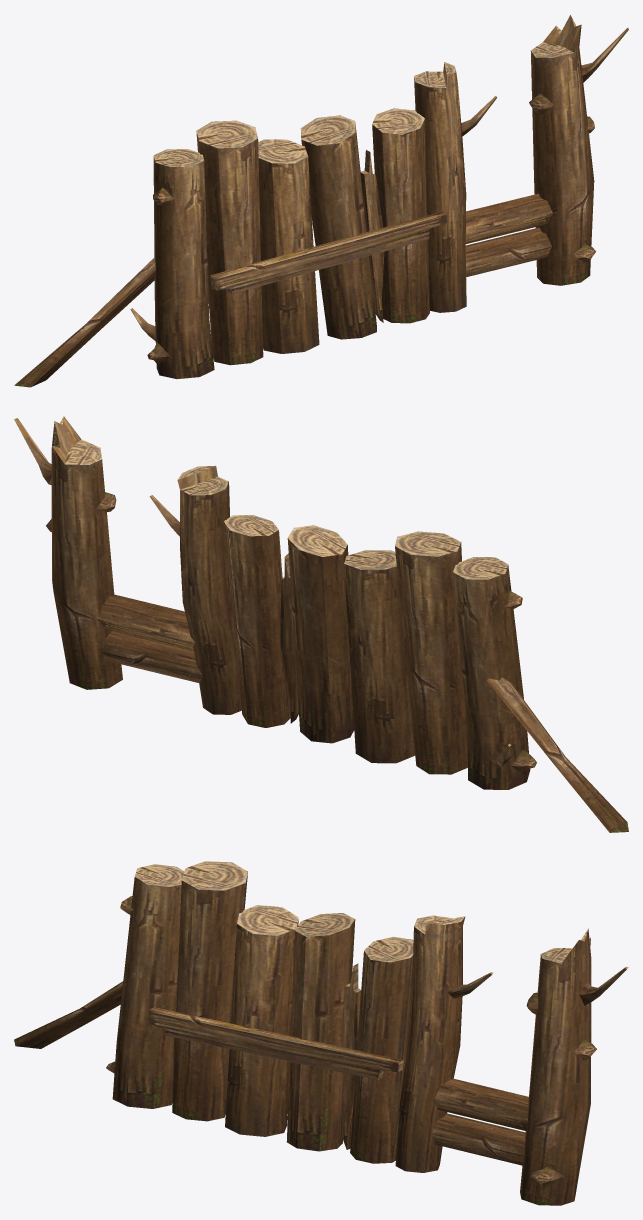
Rendered from jd_zhalan_2.FBX.
3 views of the same model, one above another, from view 1: azimuth 30°, elevation 25°; view 2: azimuth 150°, elevation 25°; view 3: azimuth 330°, elevation 25° (orthographic). The views are drawn at different scales.
Parts seen in each view (by area): view 1: jd_zhalan_2; view 2: jd_zhalan_2; view 3: jd_zhalan_2.
Boxes of the visible parts, bbox=[...] form: jd_zhalan_2: bbox=[14, 15, 628, 387]; jd_zhalan_2: bbox=[14, 416, 628, 832]; jd_zhalan_2: bbox=[14, 861, 628, 1205].
Size of the model in its own units: 249 by 99.41 by 33.53.
